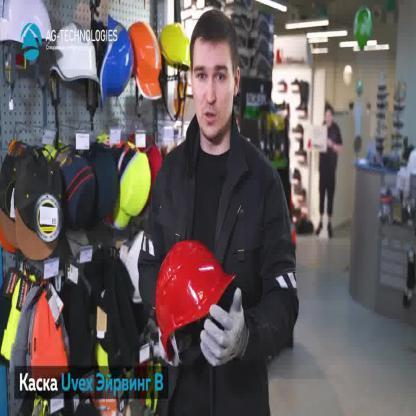gloves: (198, 287, 247, 369)
helmet: (154, 238, 238, 361), (97, 12, 136, 110), (48, 19, 102, 87), (129, 20, 166, 102), (0, 0, 60, 48), (158, 21, 192, 72)
